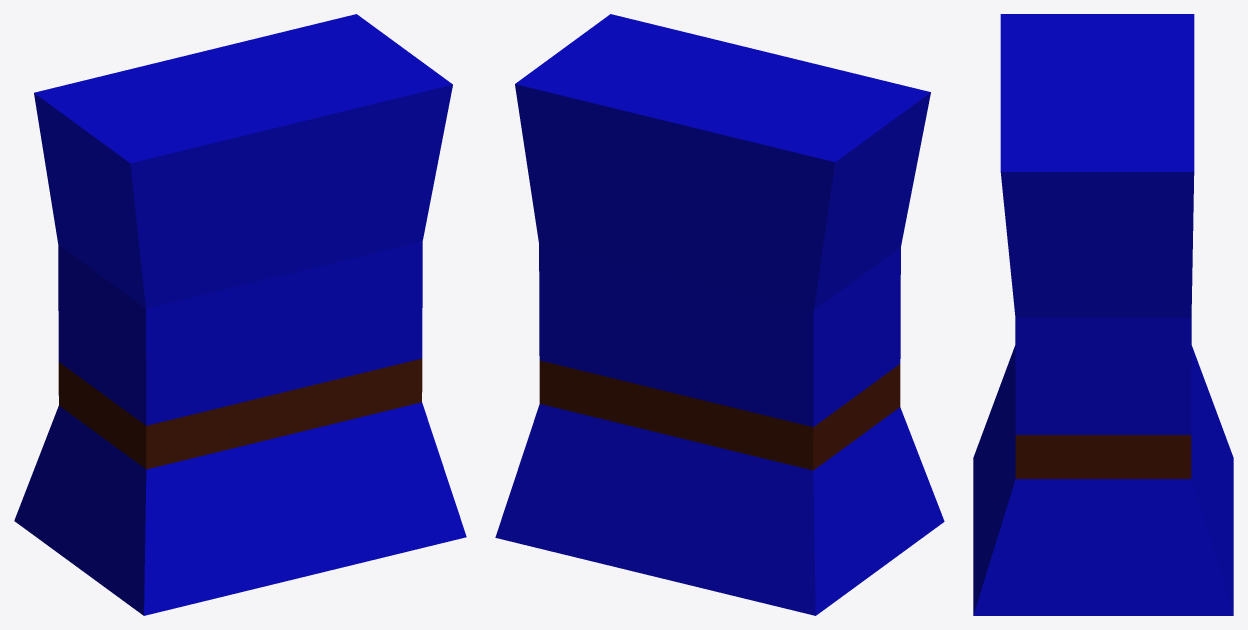
File: body.obj
3 renders of one model, left to right at view 1: azimuth 30°, elevation 25°; view 2: azimuth 150°, elevation 25°; view 3: azimuth 270°, elevation 25°, orthographic.
Visible parts, largest first — view 1: body; view 2: body; view 3: body.
Boxes of the visible parts, x1=… form: body: x1=14, y1=14, x2=466, y2=615; body: x1=495, y1=14, x2=944, y2=615; body: x1=973, y1=14, x2=1233, y2=615.
Bounding box in the file's own units: 0.1975 × 0.2587 × 0.1375.
